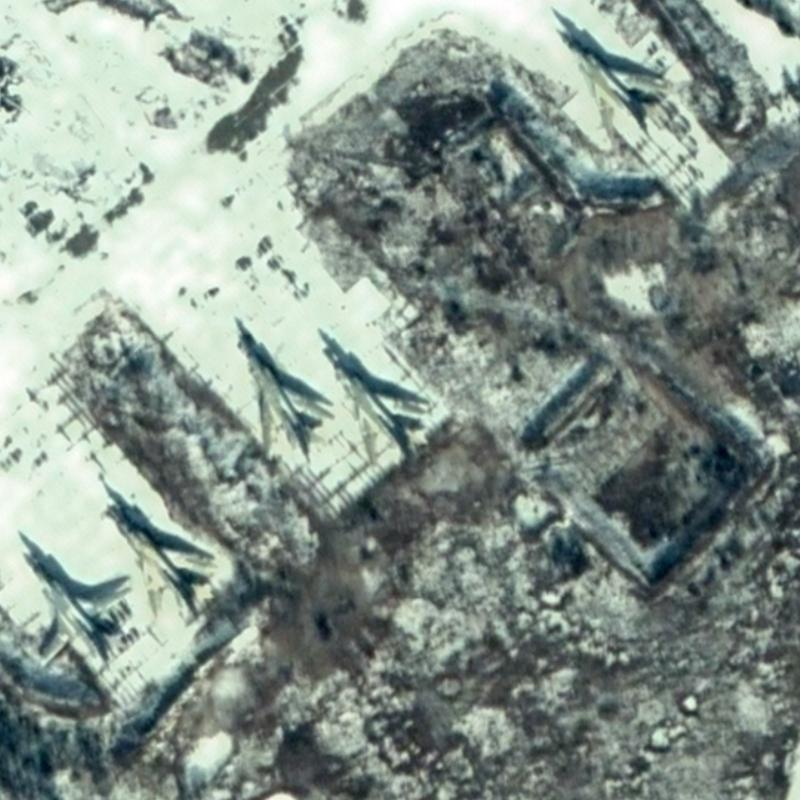A12: (92, 486, 219, 621), (225, 313, 338, 459), (549, 24, 677, 142), (17, 547, 133, 667), (315, 341, 428, 462)
